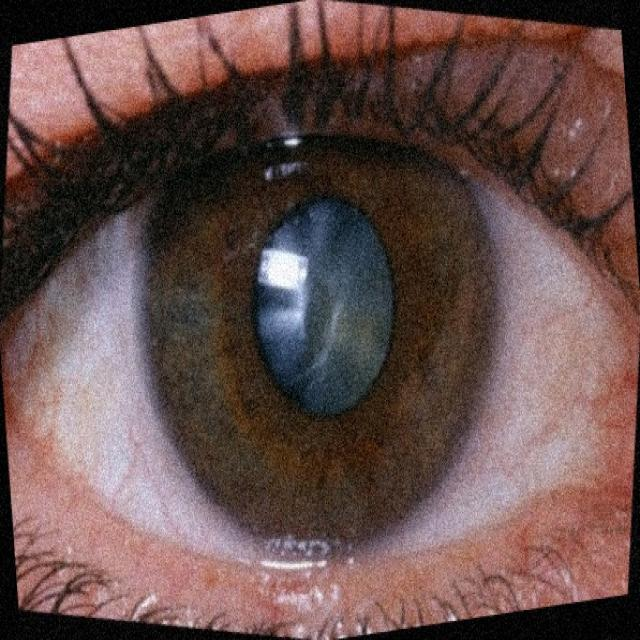Cataract: (95, 60, 517, 602)
